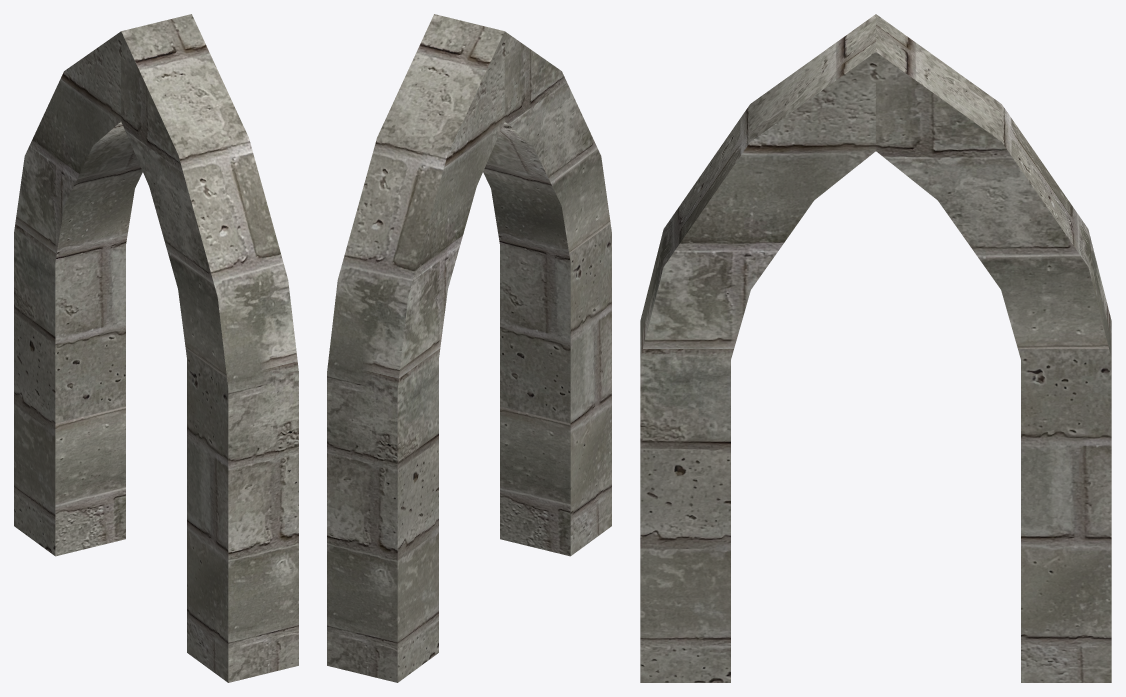
3 views of the same model, side by side, from view 1: azimuth 30°, elevation 25°; view 2: azimuth 150°, elevation 25°; view 3: azimuth 270°, elevation 25° (orthographic). The views are drawn at different scales.
Visible parts, largest first — view 1: DoorFrame; view 2: DoorFrame; view 3: DoorFrame.
Part boxes in pixels (x1=…): DoorFrame: x1=14, y1=14, x2=298, y2=682; DoorFrame: x1=327, y1=14, x2=611, y2=682; DoorFrame: x1=640, y1=14, x2=1111, y2=682.
Bounding box in the file's own units: 0.0813 × 0.6311 × 0.4273.
Materials: 1 (1 with a texture image).
